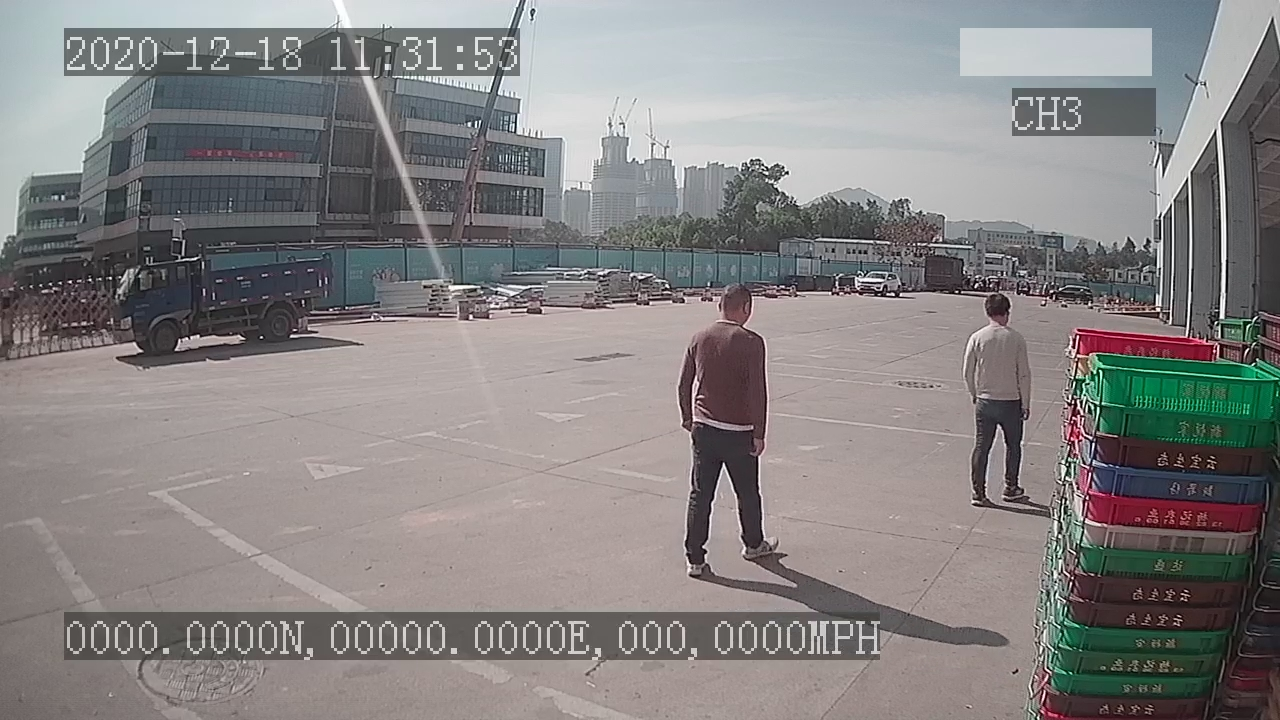person: (677, 284, 785, 581), (962, 291, 1036, 510)
